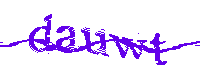a: (54, 24, 76, 54)
d: (27, 13, 53, 54)
t: (149, 31, 170, 68)
u: (80, 26, 109, 57)
w: (109, 31, 146, 63)
